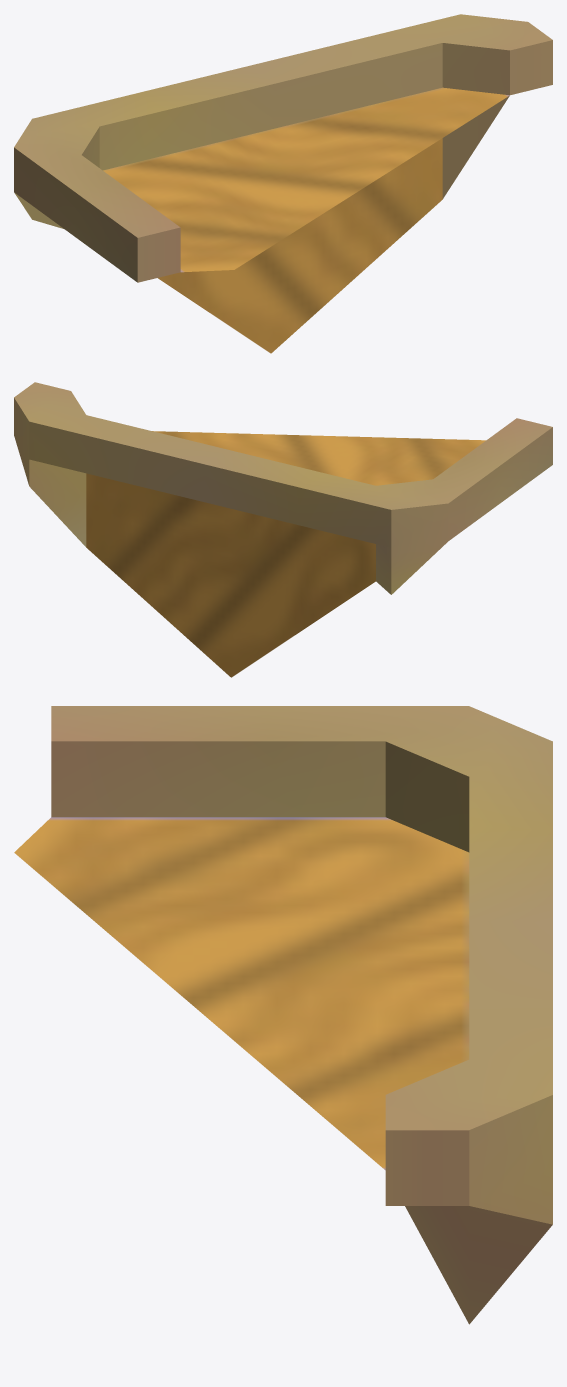
File: crate_shattered_3.glb
3 renders of one model, top to bottom at view 1: azimuth 30°, elevation 25°; view 2: azimuth 150°, elevation 25°; view 3: azimuth 270°, elevation 25°, orthographic. The views are drawn at different scales.
Parts seen in each view (by area): view 1: BoltCrateSplinter3; view 2: BoltCrateSplinter3; view 3: BoltCrateSplinter3.
Boxes of the visible parts, <box> form: BoltCrateSplinter3: <box>14,14,552,353</box>; BoltCrateSplinter3: <box>14,382,552,677</box>; BoltCrateSplinter3: <box>14,706,552,1324</box>.
Bounding box in the file's own units: 1.2 × 0.6 × 0.6444.
Materials: 1 (1 with a texture image).
